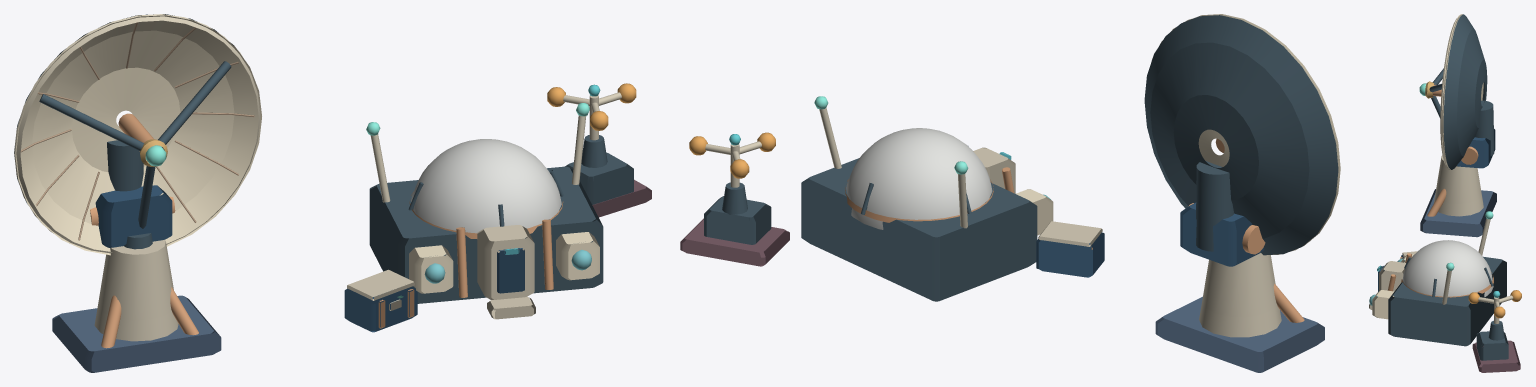
Rendered from antena.obj.
3 views of the same model, side by side, from view 1: azimuth 30°, elevation 25°; view 2: azimuth 150°, elevation 25°; view 3: azimuth 270°, elevation 25° (orthographic). The views are drawn at different scales.
Parts seen in each view (by area): view 1: antena; view 2: antena; view 3: antena.
Part boxes in pixels (left/top/right/bottom): antena: left=14, top=14, right=651, bottom=372; antena: left=680, top=14, right=1340, bottom=372; antena: left=1369, top=14, right=1521, bottom=372.
Bounding box in the file's own units: 1.65 × 0.8078 × 0.5675.
